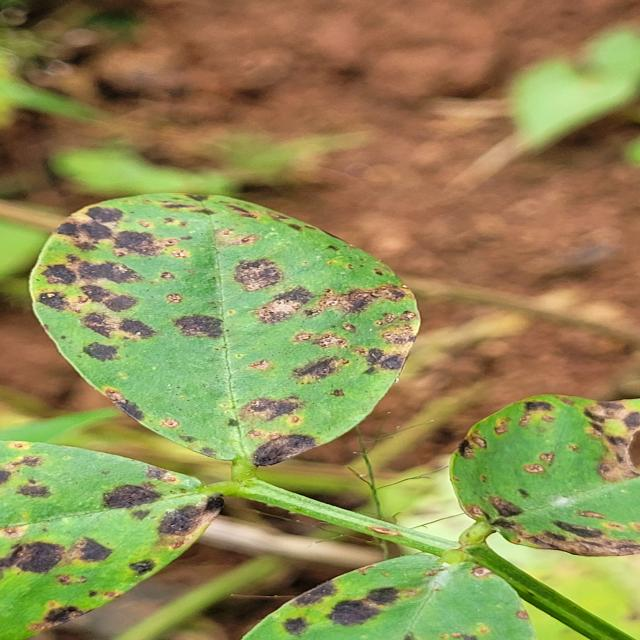Ground nut_tikka leaf spot: (29, 188, 422, 472)
